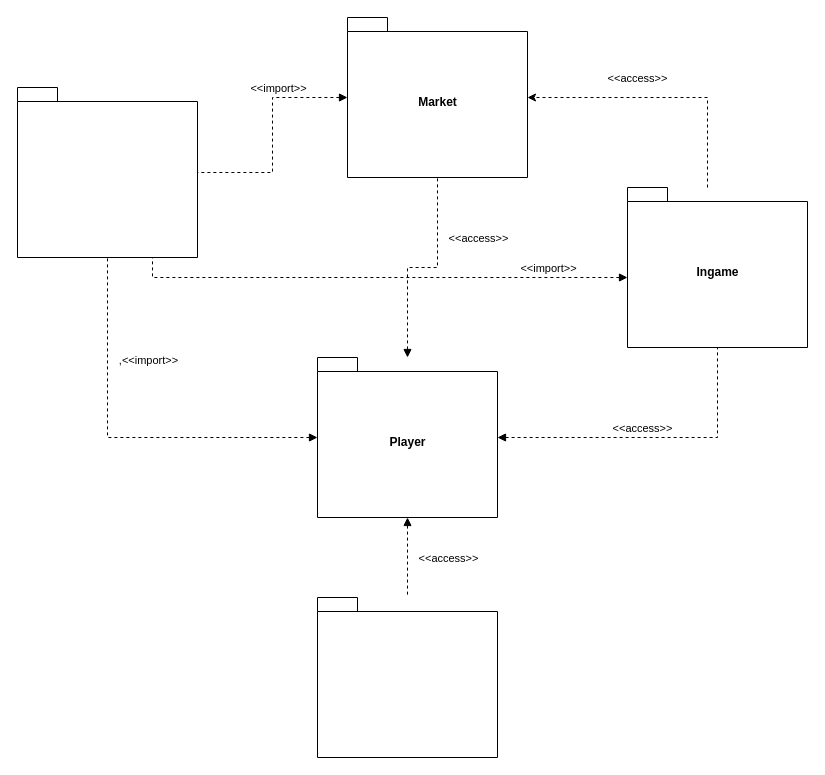
This 825x775 diagram has some shape labels left out. The shapes that lost their labels are listed below. From the top down, each one's centre as x and y in pixels, then its label:
At point (107, 172): "interface".
At point (407, 677): "Parametre".
